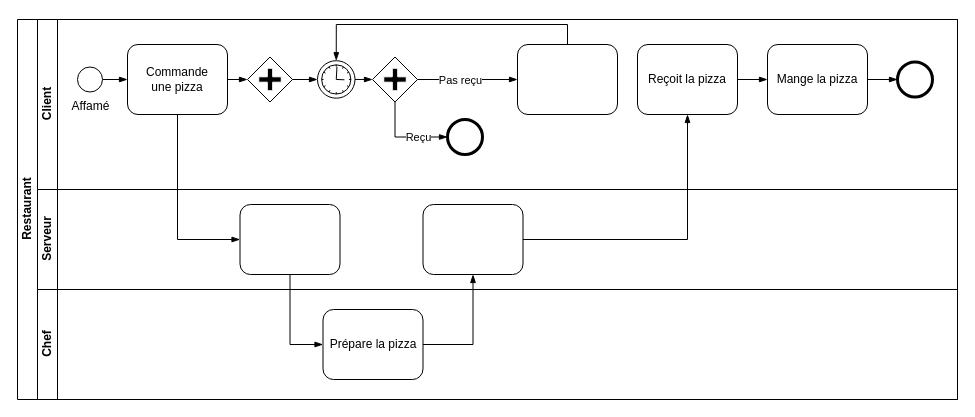
The diagram is 975 pixels wide and 417 high, and some of its shapes have lost their labels. Here are the shapes that lost their labels. From the top down, the centre of each, then its label:
At point 335,79: "15 min.".
At point 567,79: "Rappel le serveur".
At point 914,79: "Repus".
At point 289,239: "Prend la commande".
At point 472,239: "Apporte la pizza".
